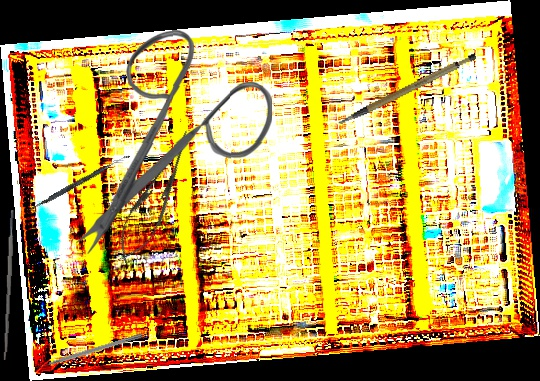Hook Surgical: (30, 332, 144, 372)
Iris Scissors: (72, 28, 275, 258)
Needle Holder: (108, 123, 204, 270)
Scalpel Handle: (330, 50, 483, 126), (2, 209, 16, 361)
Spatula Surgical: (27, 151, 130, 215)
